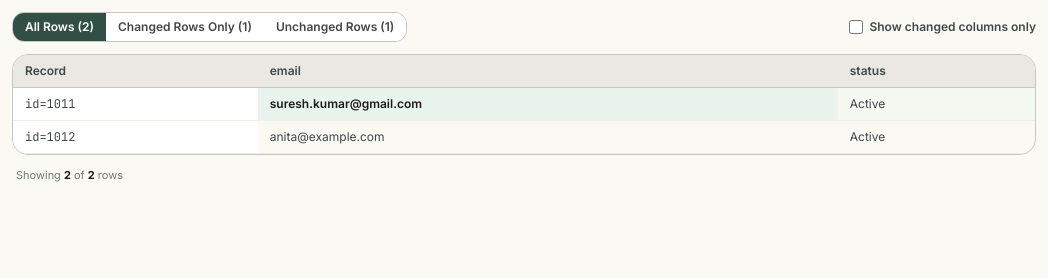
it: ChangePreviewTable › shows an original-vs-staged inspector when a changed cell is clicked
Click the text "suresh.kumar@gmail.com".
click(548, 104)  # box 258,88 -> 838,121
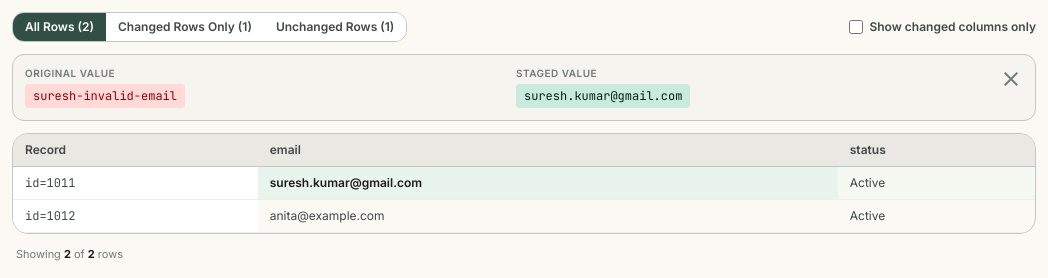
Check: the text "Original Value" is shown, box 25,67 -> 115,79
Check: the text "suresh-invalid-email" is shown, box 25,84 -> 185,108
Check: the text "Staged Value" is shown, box 516,67 -> 597,79
